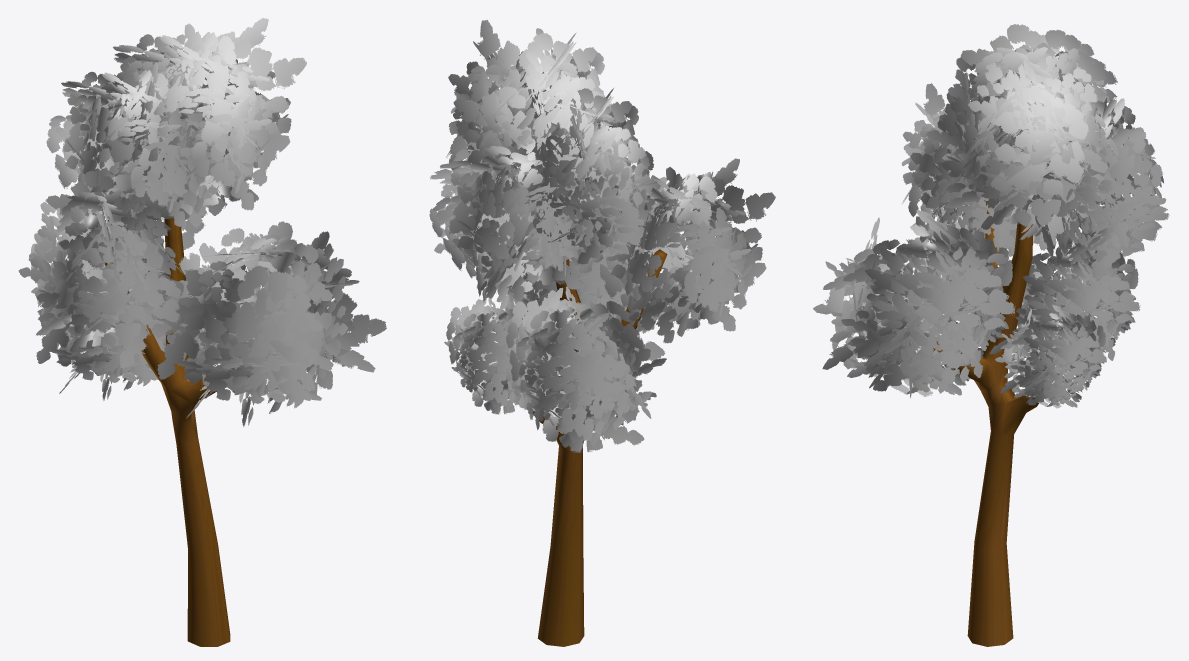
File: SM_Tree1_02.fbx
3 renders of one model, left to right at view 1: azimuth 30°, elevation 25°; view 2: azimuth 150°, elevation 25°; view 3: azimuth 270°, elevation 25°, orthographic.
Parts seen in each view (by area): view 1: SM_Tree01_02_LOD0; view 2: SM_Tree01_02_LOD0; view 3: SM_Tree01_02_LOD0.
Part boxes in pixels (x1,y1,x2,y2): SM_Tree01_02_LOD0: (18, 18, 386, 646); SM_Tree01_02_LOD0: (429, 20, 775, 646); SM_Tree01_02_LOD0: (813, 24, 1169, 646).
Size of what is drawn, in the model's own units: 715 by 1334 by 731.
